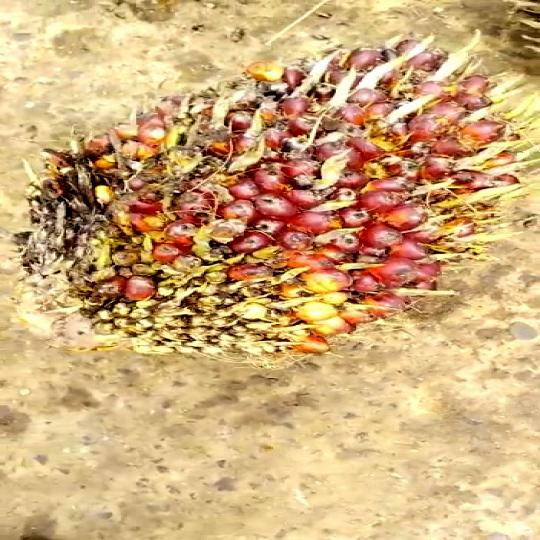masak: (20, 37, 525, 359)
